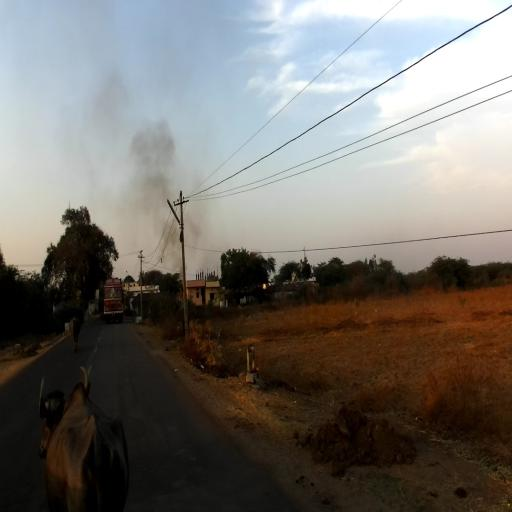street_light_0: (167, 199, 184, 231), (126, 271, 129, 275)
